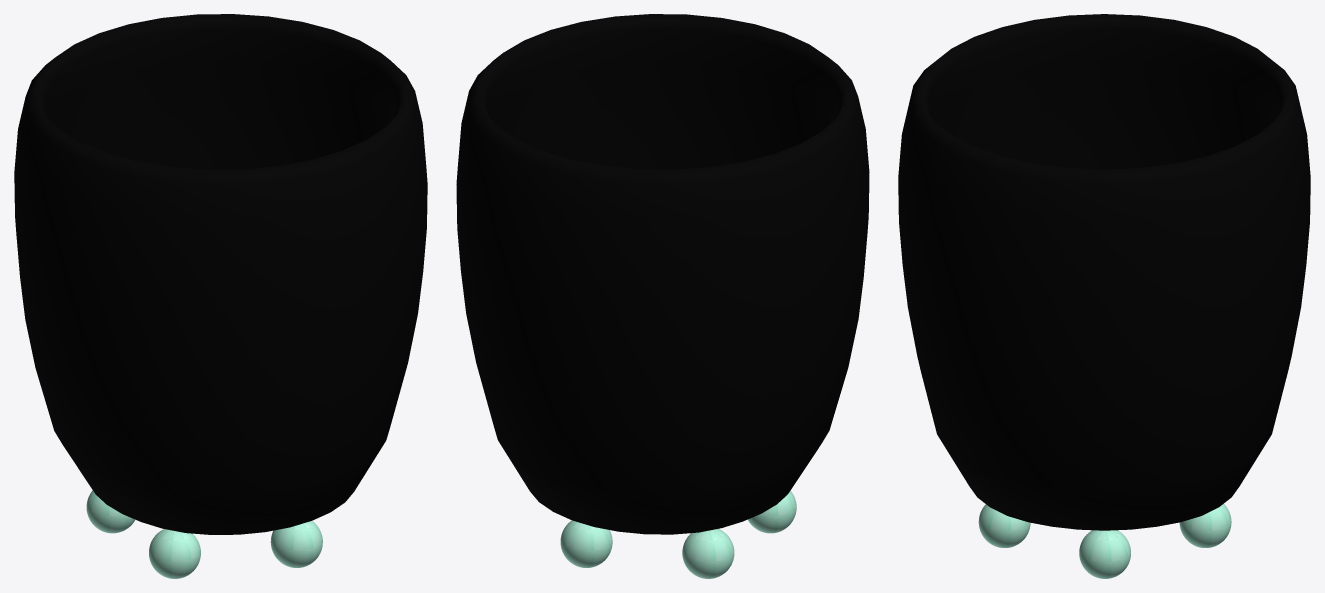
File: vaso.obj
The picture shows the model from 3 angles, left to right: view 1: azimuth 30°, elevation 25°; view 2: azimuth 150°, elevation 25°; view 3: azimuth 270°, elevation 25°; orthographic projection.
Parts seen in each view (by area): view 1: Cylinder02 polySurface815, Cylinder02 polySurface817, Cylinder02 polySurface820, Cylinder02 polySurface818; view 2: Cylinder02 polySurface815, Cylinder02 polySurface818, Cylinder02 polySurface816, Cylinder02 polySurface817; view 3: Cylinder02 polySurface815, polySurface821 Cylinder02, Cylinder02 polySurface816, Cylinder02 polySurface820.
Part boxes in pixels (x1,y1,x2,y2): Cylinder02 polySurface815: (14, 14, 427, 534); Cylinder02 polySurface817: (149, 529, 200, 578); Cylinder02 polySurface820: (270, 521, 322, 567); Cylinder02 polySurface818: (86, 490, 134, 533); Cylinder02 polySurface815: (456, 14, 869, 534); Cylinder02 polySurface818: (682, 529, 734, 578); Cylinder02 polySurface816: (560, 520, 612, 567); Cylinder02 polySurface817: (748, 490, 796, 533); Cylinder02 polySurface815: (898, 14, 1310, 530); polySurface821 Cylinder02: (1079, 530, 1130, 578); Cylinder02 polySurface816: (1179, 503, 1231, 547); Cylinder02 polySurface820: (978, 504, 1030, 547).
Size of the model in its own units: 0.4147 by 0.4898 by 0.4147.
